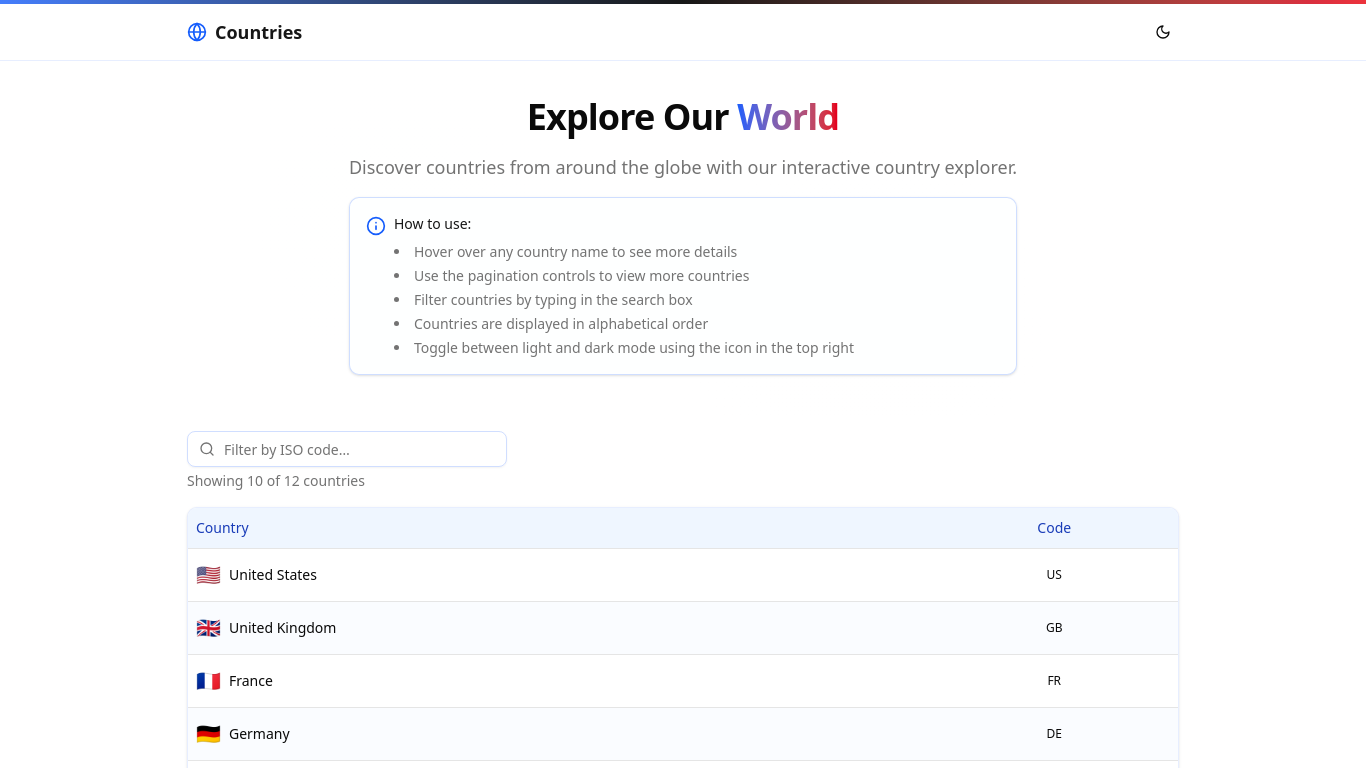
CountriesPage › clears filter when clear button is clicked
Filter for 'US'
In the field with placeholder "Filter by ISO code…": point(347, 449) [187,431,507,467], type "US"
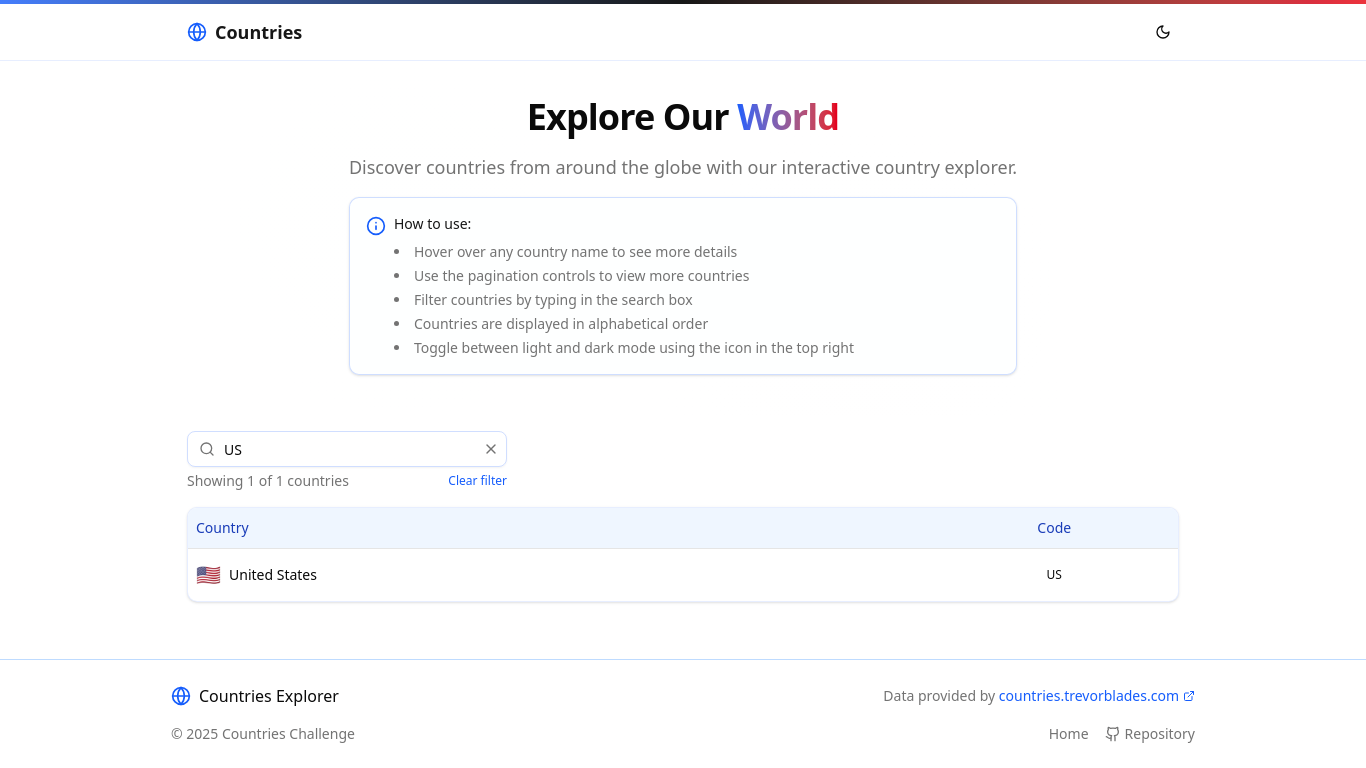
Click the clear button
Click the button named "Clear filter": point(491, 449) [483,441,499,457]
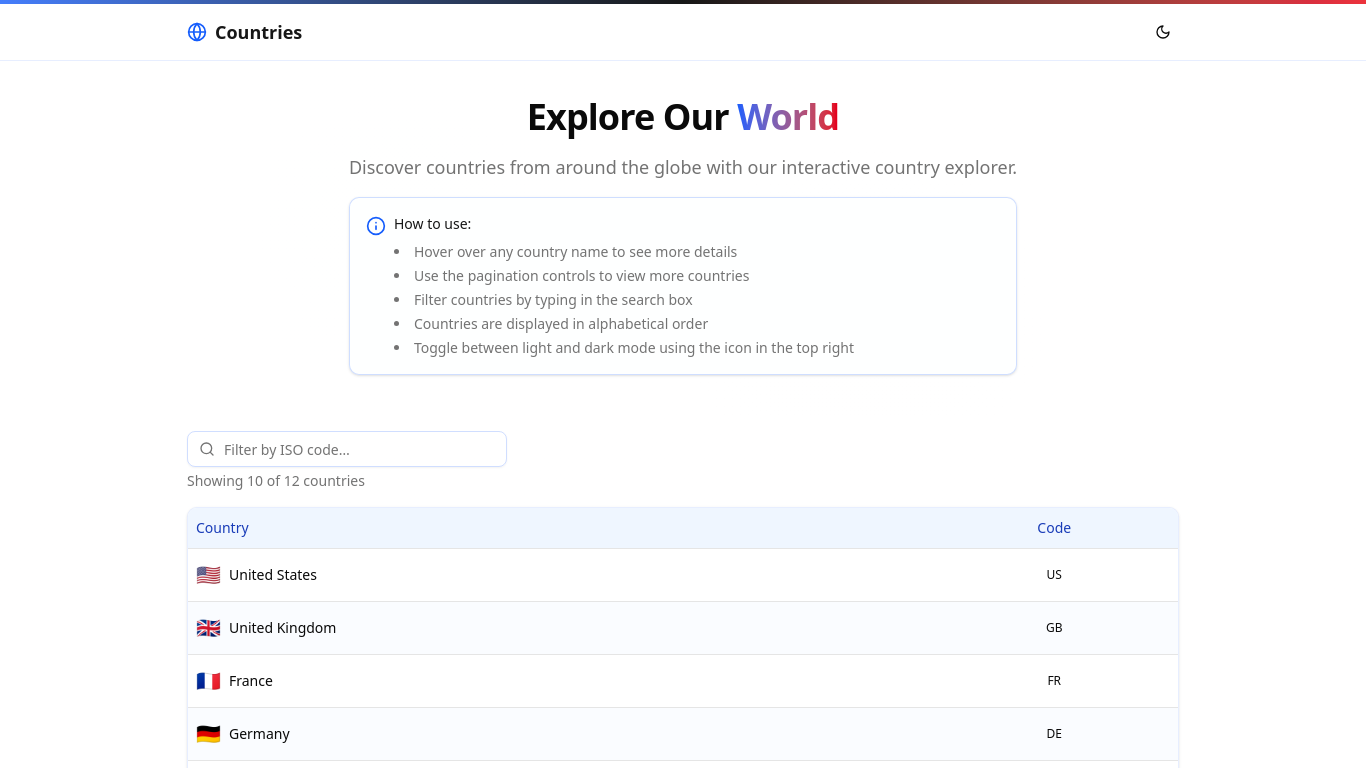
Check: the text "United States" is shown, box [229,564,317,584]
Check: the field with placeholder "Filter by ISO code…" is empty, box [187,431,507,467]
Check: the text "United Kingdom" is shown, box [229,618,336,638]
